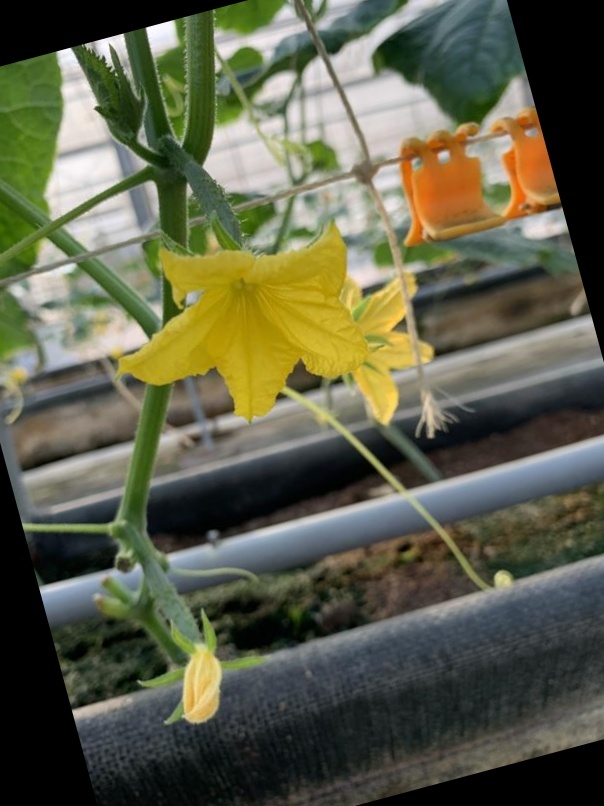flowering: (66, 154, 357, 422)
